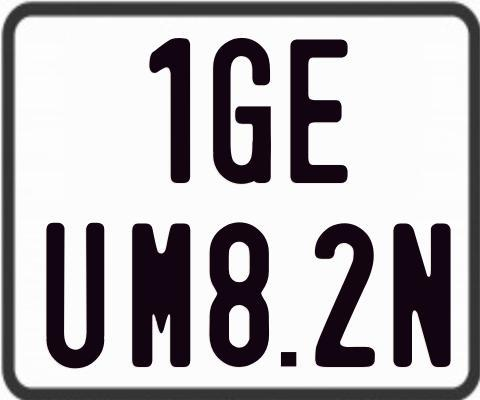1: (149, 35, 192, 181)
2: (314, 221, 379, 365)
8: (207, 220, 269, 366)
E: (289, 39, 350, 188)
G: (210, 35, 273, 184)
M: (130, 222, 188, 369)
N: (391, 220, 454, 369)
U: (44, 223, 104, 371)
